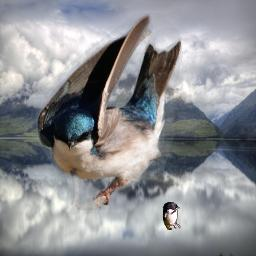Swallow: (36, 13, 183, 210), (162, 201, 181, 230)
